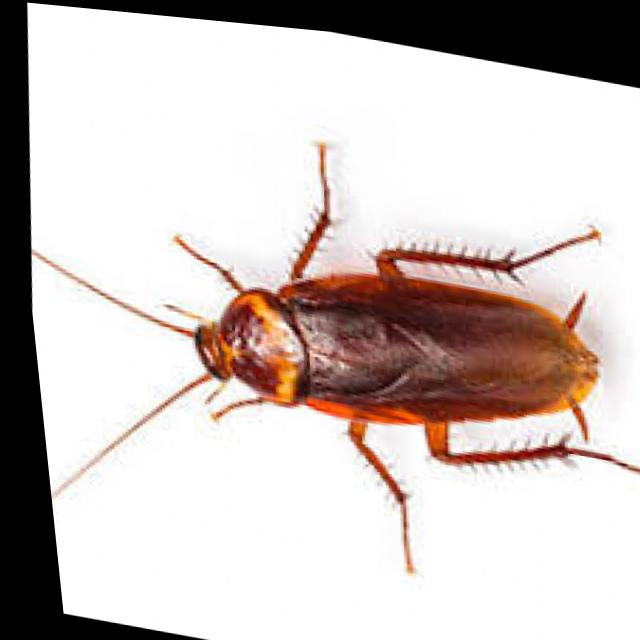Cockroach: (6, 77, 640, 640)
